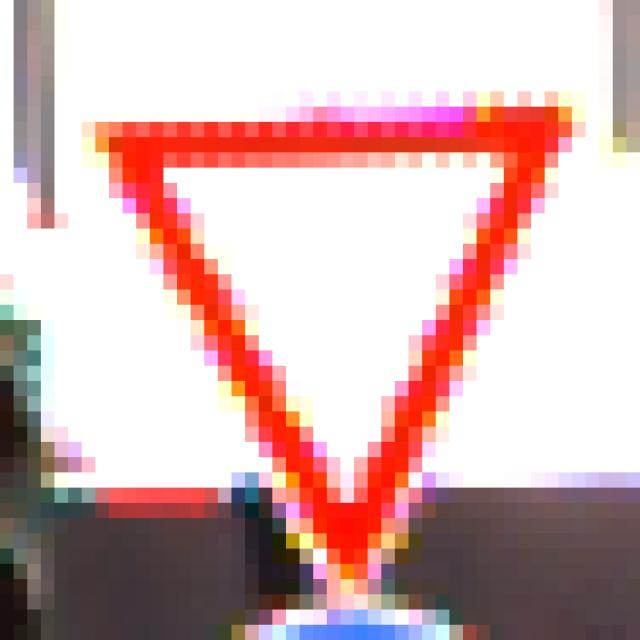Give Way: (69, 77, 573, 565)
